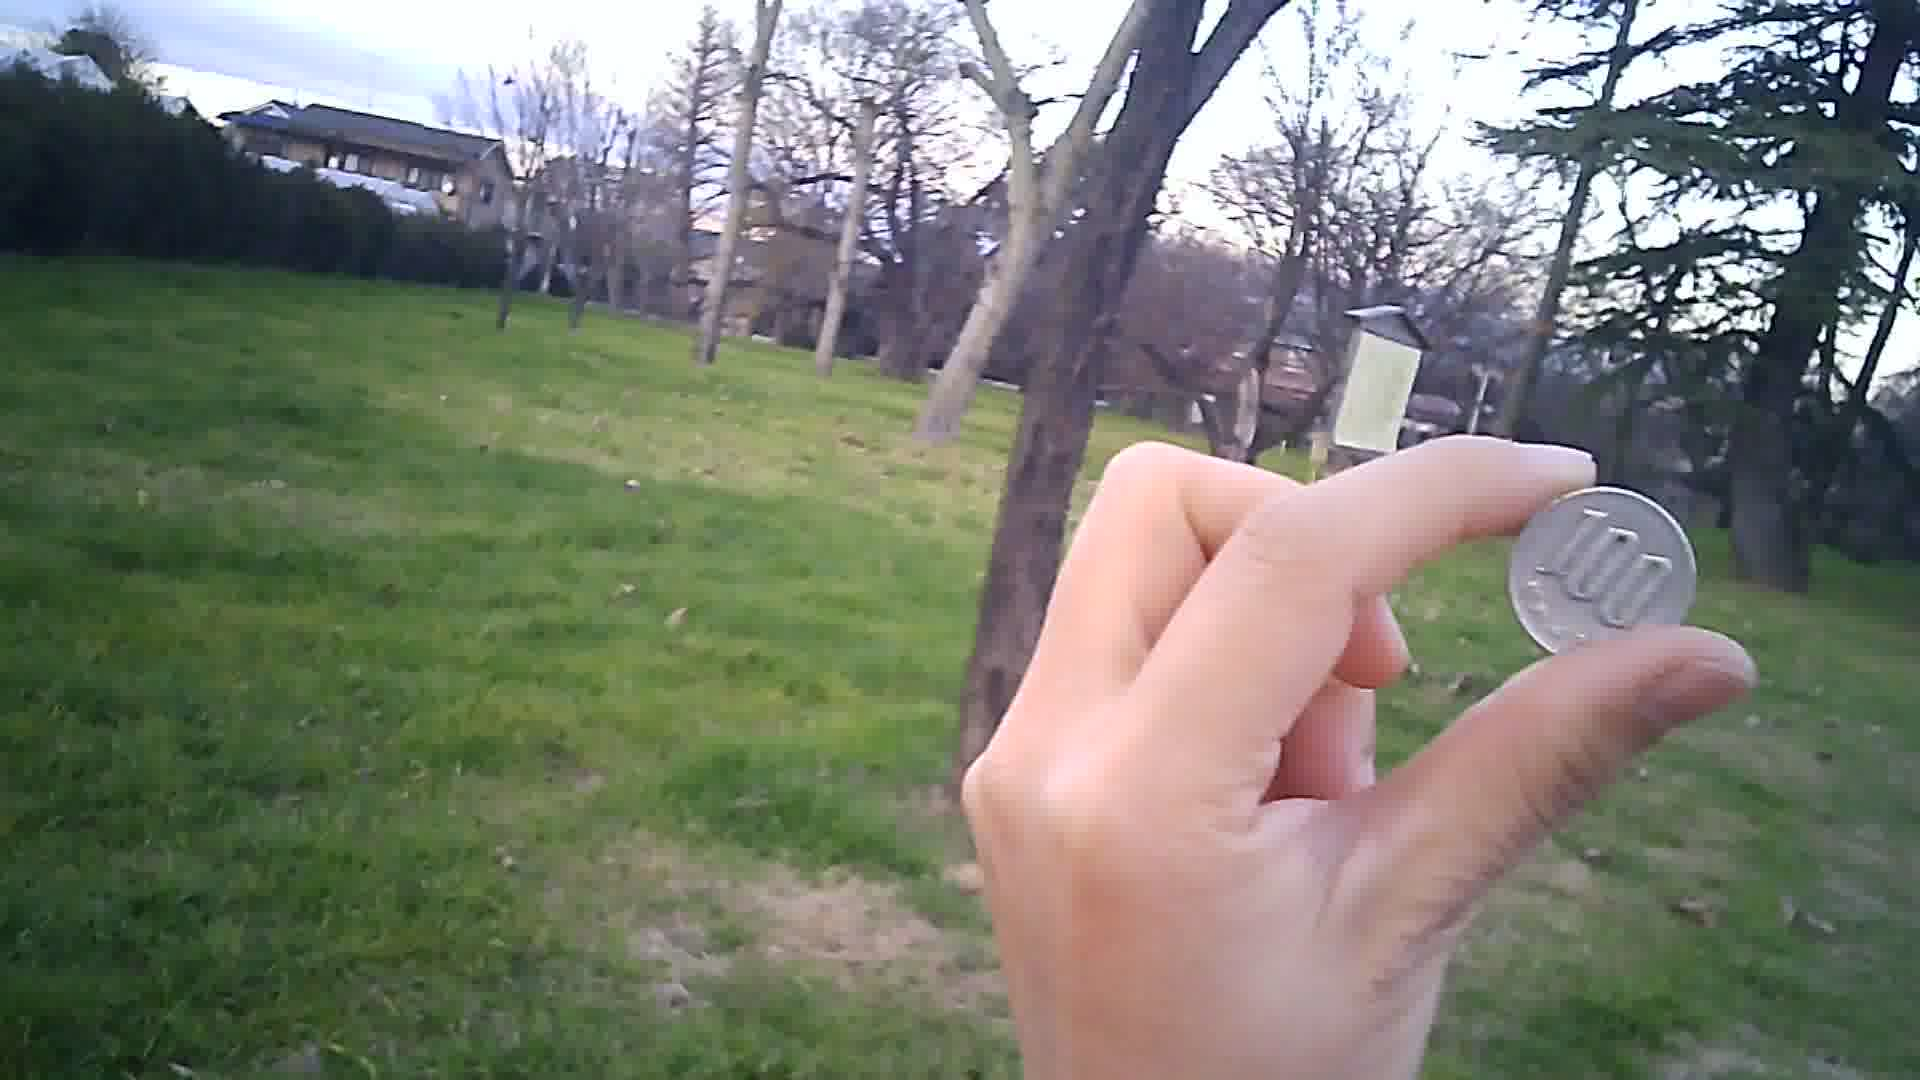100 Yen: (1505, 483, 1700, 662)
